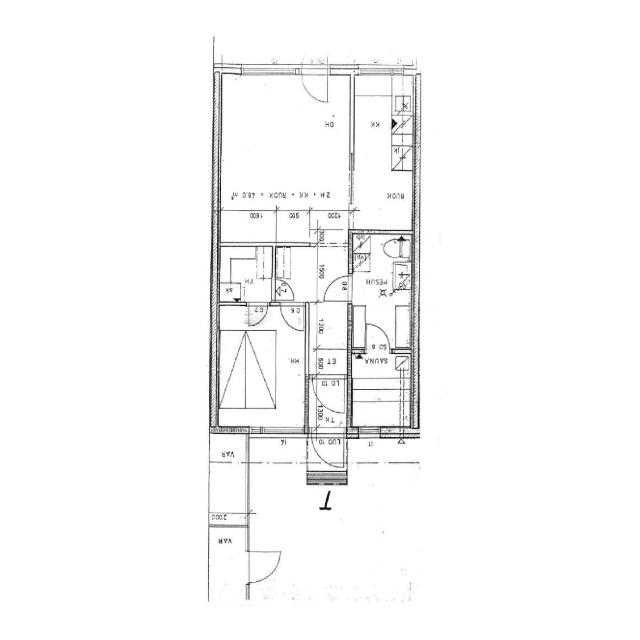door: (312, 374, 349, 417), (311, 426, 347, 470), (300, 58, 331, 106), (246, 547, 284, 585), (320, 273, 354, 303), (363, 320, 392, 352), (279, 301, 307, 333), (246, 300, 270, 327), (272, 279, 297, 301)
window: (238, 61, 296, 79), (358, 64, 396, 76), (357, 424, 383, 440)
zone: (217, 71, 353, 206), (216, 301, 305, 429), (349, 70, 416, 237), (351, 232, 414, 349), (349, 352, 413, 432), (217, 244, 274, 302), (208, 524, 248, 599)
